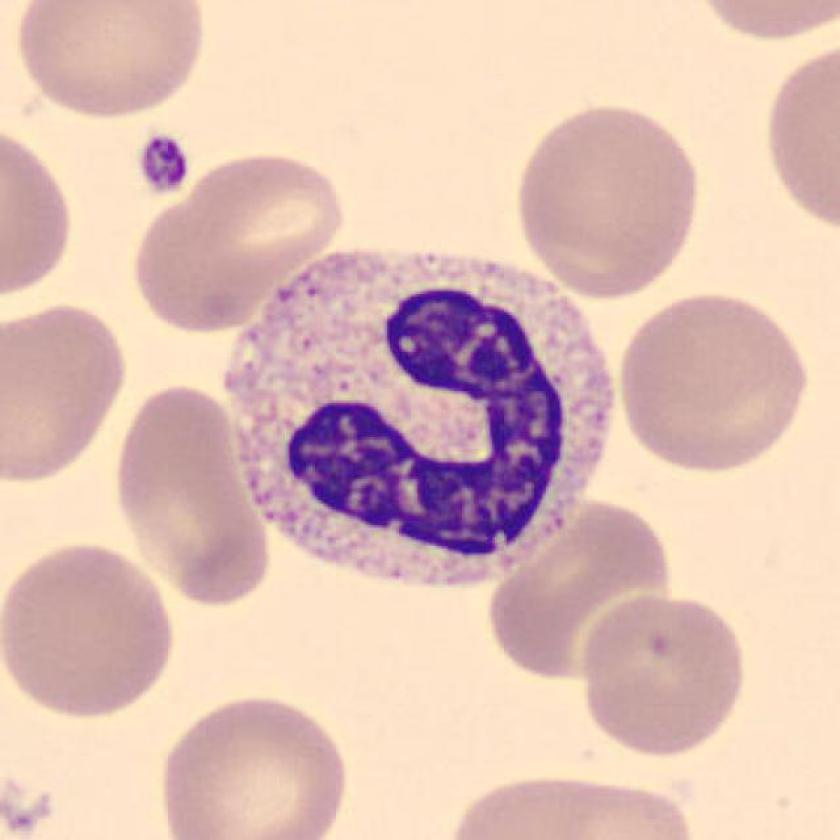neutrophil: (232, 249, 617, 583)
